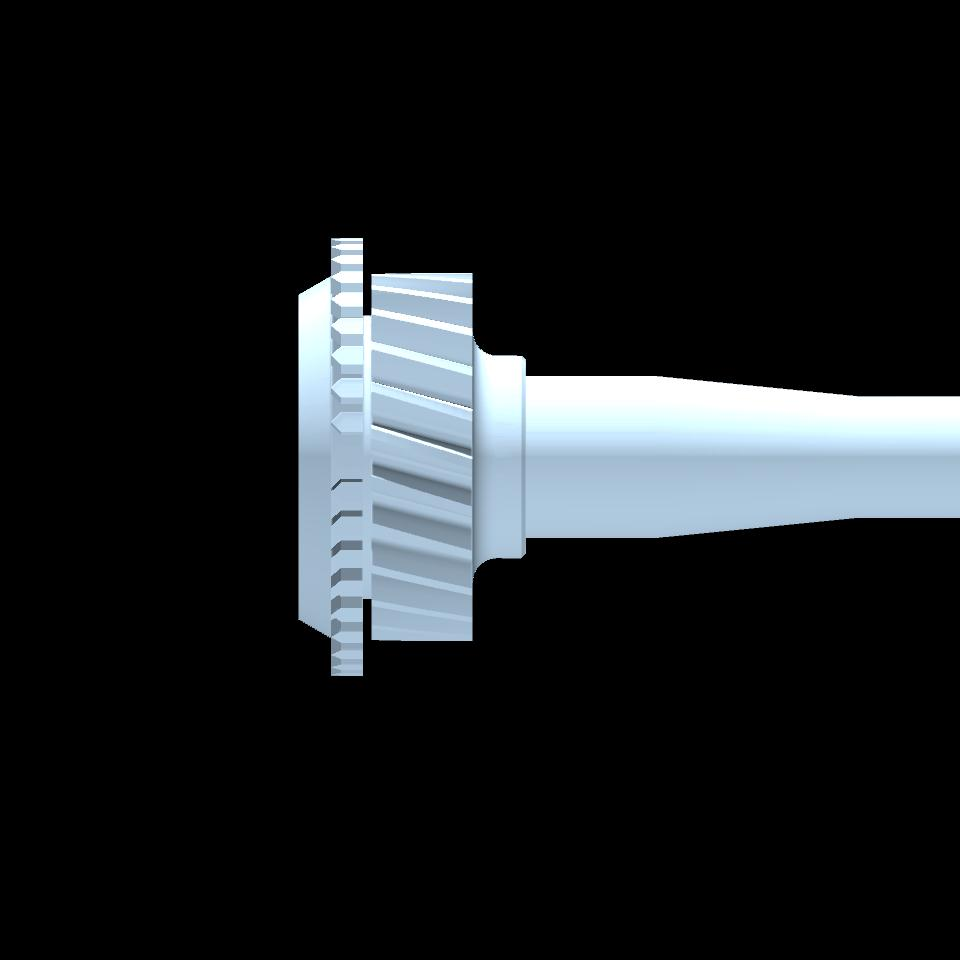Helical: (372, 274, 470, 640)
Straight: (339, 238, 363, 678)
